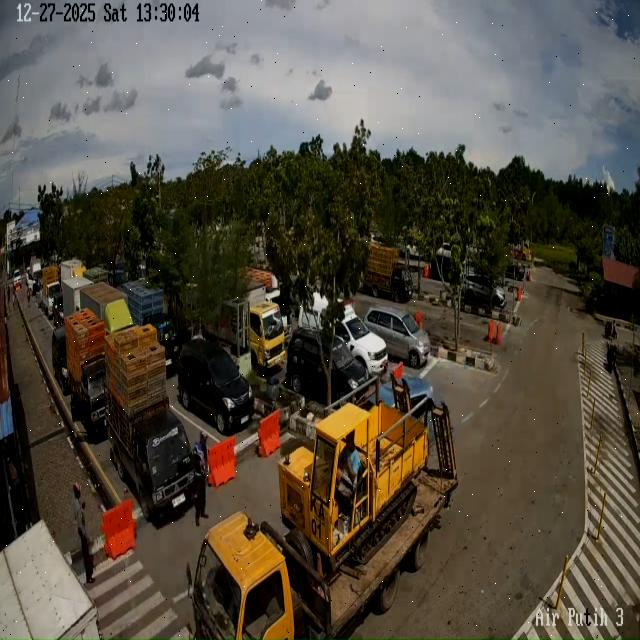Golongan IVA: (177, 339, 255, 435), (286, 328, 369, 401), (364, 306, 430, 368), (462, 272, 506, 308), (51, 326, 70, 395)
Golongan IVB: (106, 389, 201, 529), (66, 356, 114, 443), (364, 243, 414, 302)
Golongan VB: (187, 382, 458, 640)
